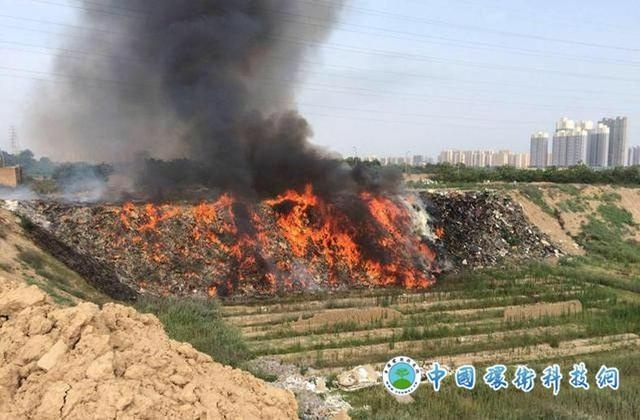fire: (98, 181, 445, 292)
